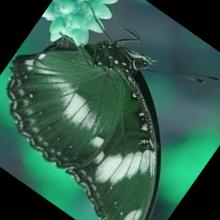butterfly: (7, 41, 161, 220)
